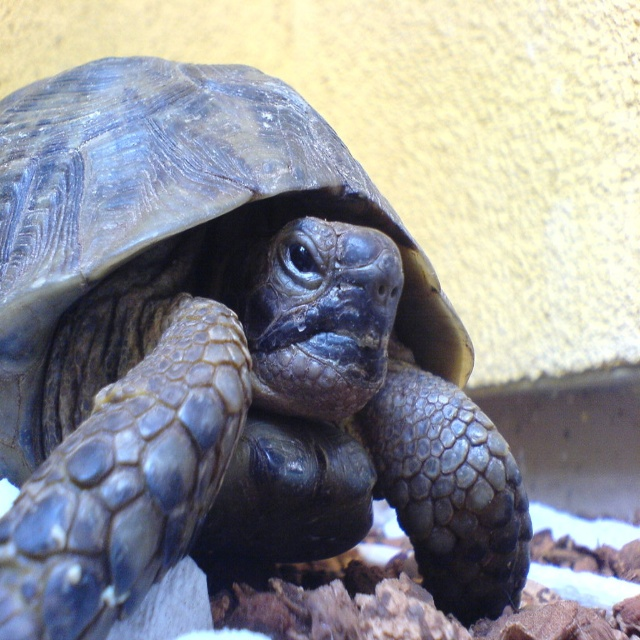Sea turtle: (0, 52, 537, 639)
